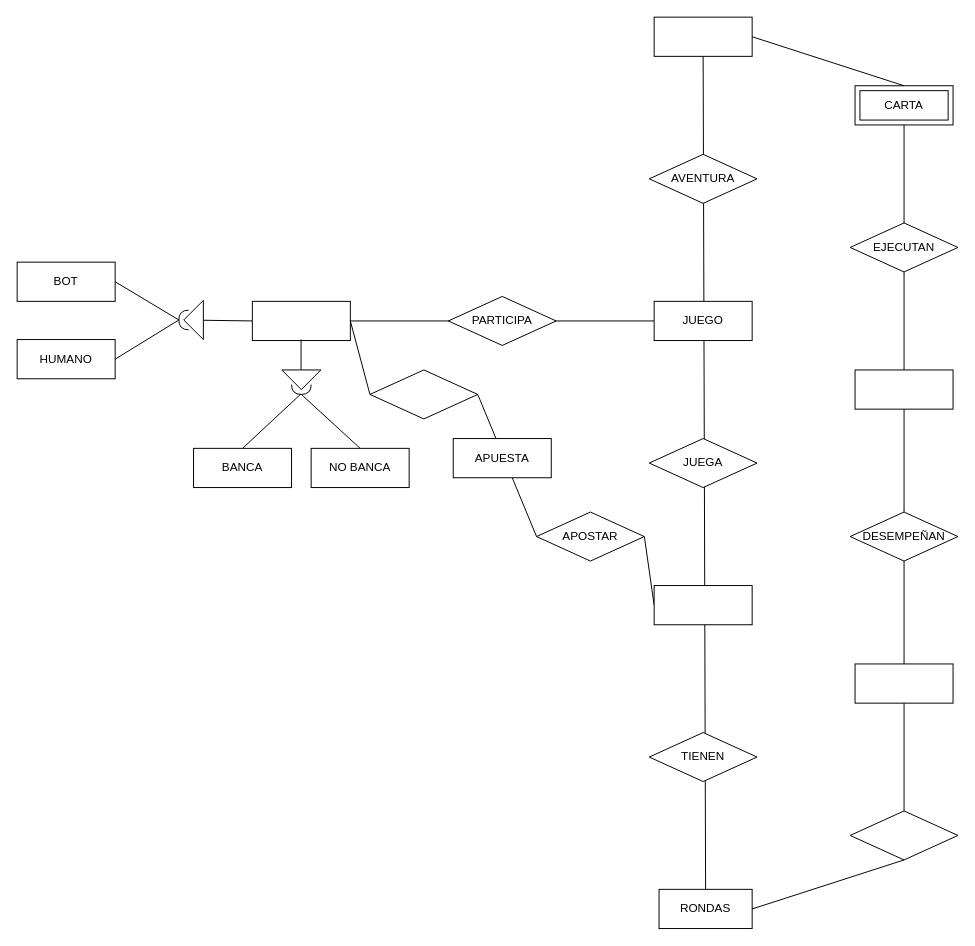
Image size: 975x946. Some labels were removed from this diagram. The centre of each missing label's shape, as x and y in pixels:
ACCIONES: the point at 903,389
BARAJA: the point at 702,36
HAY: the point at 903,835
JUGADOR: the point at 300,320
PARTIDAS: the point at 702,605
REALIZA: the point at 423,394
TURNOS: the point at 903,683
